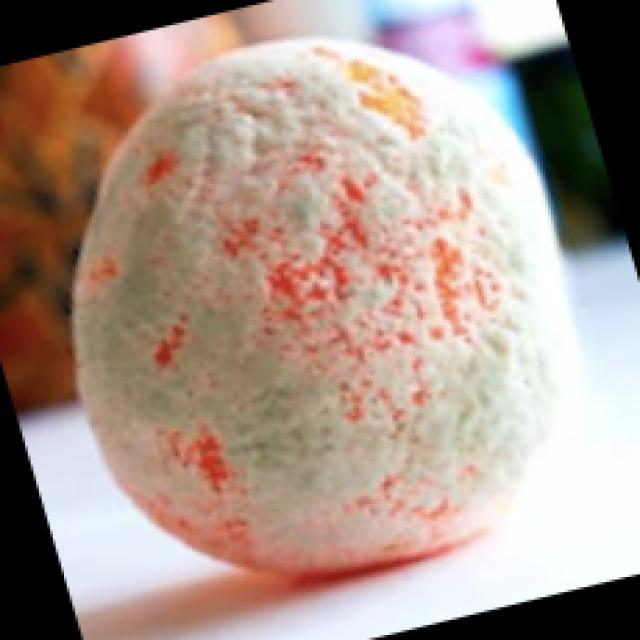sangat-busuk: (74, 39, 576, 572)
